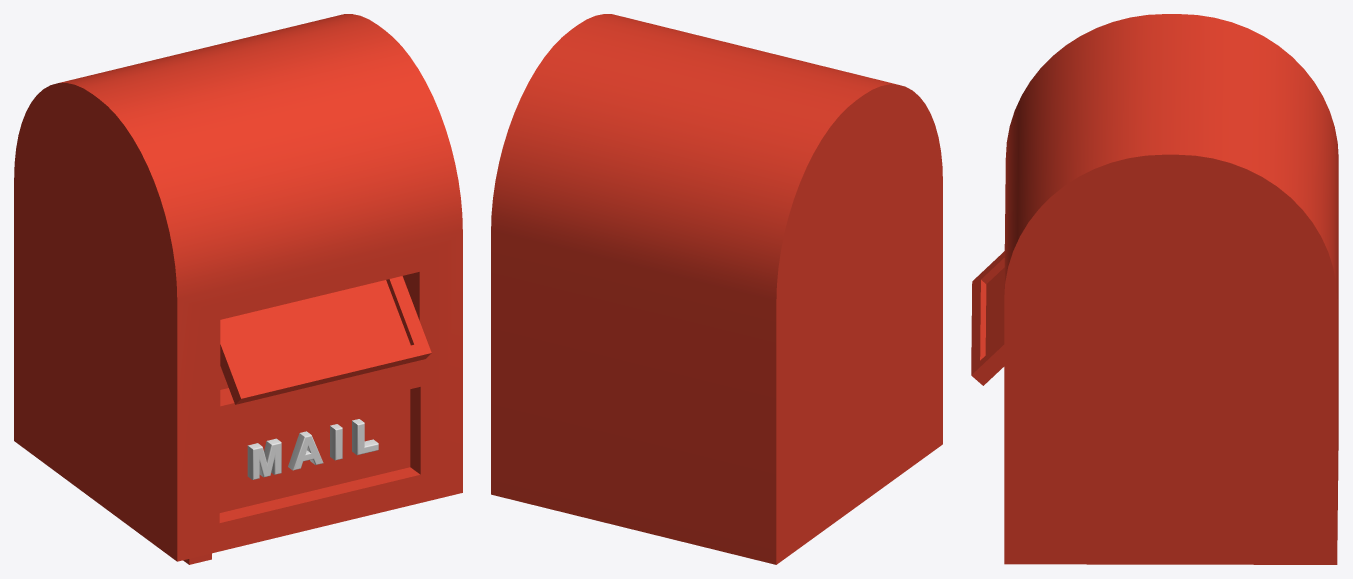
The model's file is MultiPostBox.glb.
3 renders of one model, left to right at view 1: azimuth 30°, elevation 25°; view 2: azimuth 150°, elevation 25°; view 3: azimuth 270°, elevation 25°, orthographic.
Parts seen in each view (by area): view 1: Cube.051, Cube.053, Text.004; view 2: Cube.051; view 3: Cube.051, Cube.053.
Part boxes in pixels (box(x1,y1,x2,y2)): Cube.051: box(14, 14, 462, 561); Cube.053: box(220, 276, 431, 404); Text.004: box(247, 419, 378, 479); Cube.051: box(491, 14, 942, 564); Cube.051: box(1004, 14, 1338, 564); Cube.053: box(971, 251, 1004, 385).
Bounding box in the file's own units: 1.2 × 1.67 × 1.31.
